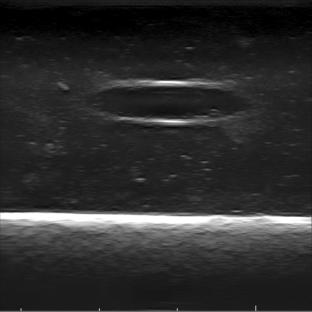vessel: (90, 79, 251, 126)
